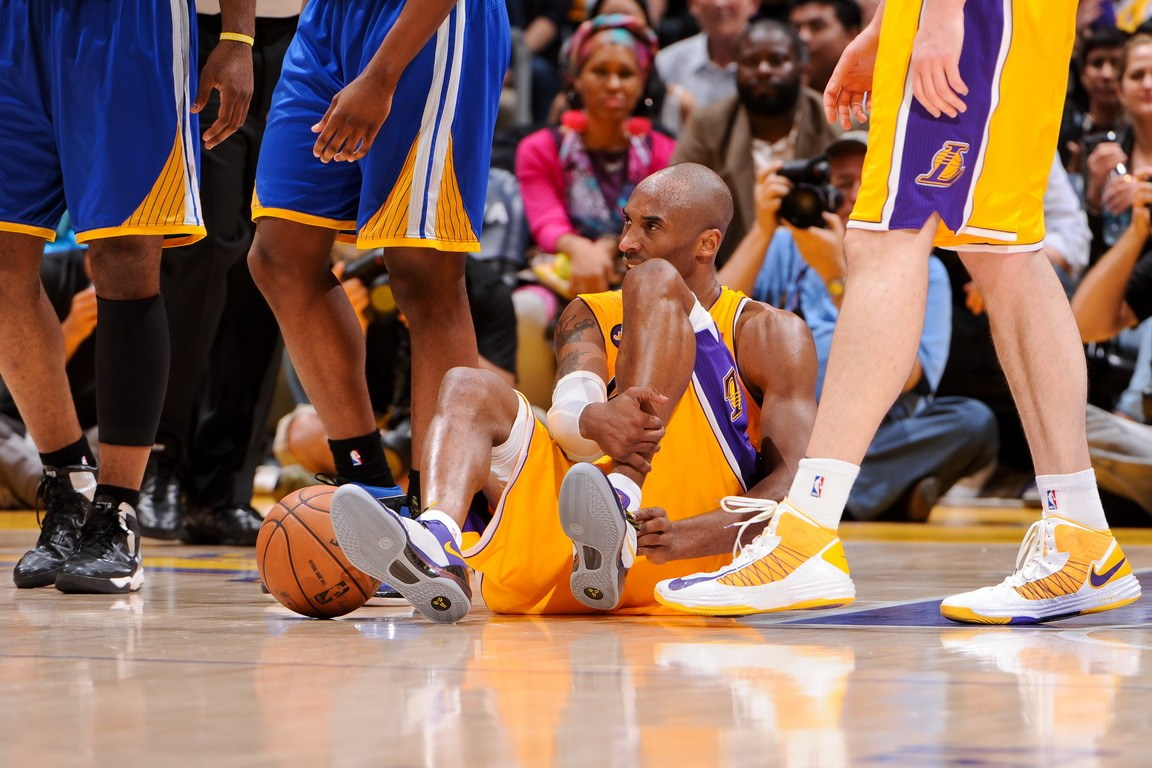10+: (3, 1, 1152, 611)
down: (324, 153, 834, 636)
